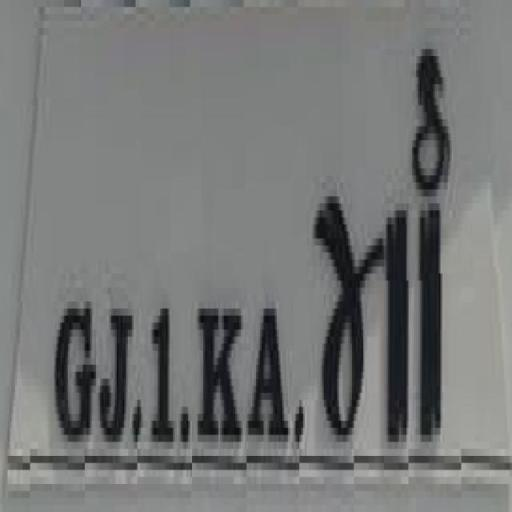number plate: (22, 0, 512, 463)
